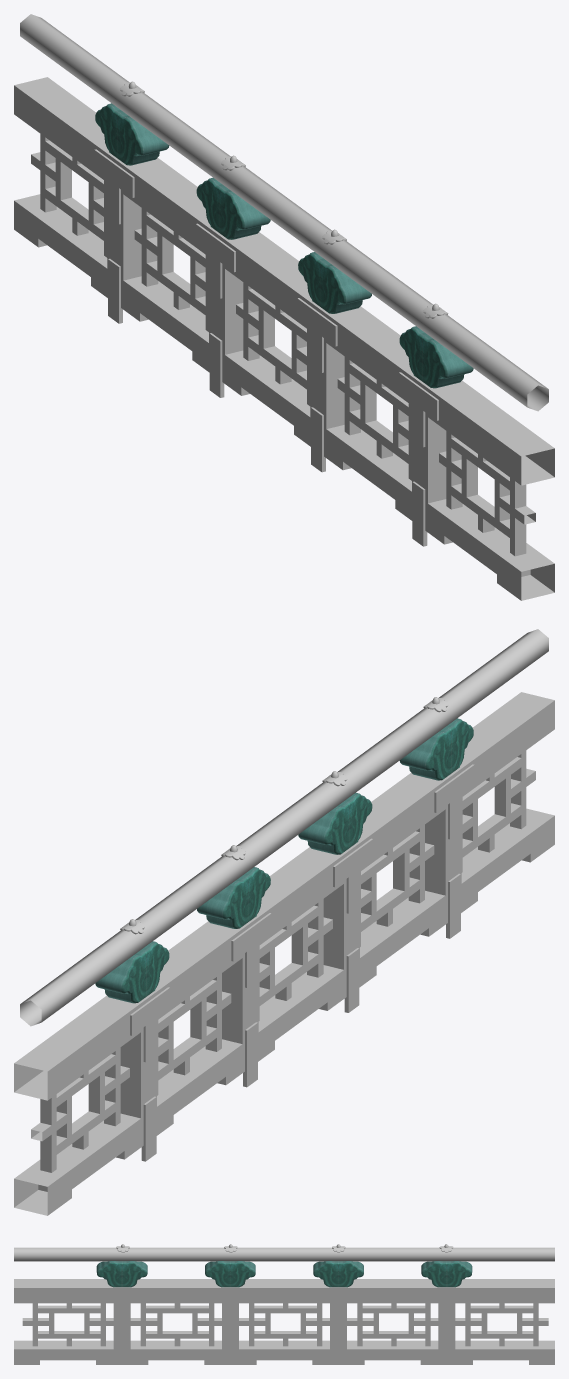
Rendered from SM_Handrail01D.fbx.
3 renders of one model, top to bottom at view 1: azimuth 30°, elevation 25°; view 2: azimuth 150°, elevation 25°; view 3: azimuth 270°, elevation 25°, orthographic. The views are drawn at different scales.
Visible parts, largest first — view 1: SM_Handrail01D; view 2: SM_Handrail01D; view 3: SM_Handrail01D.
Part boxes in pixels (x1=…): SM_Handrail01D: x1=14, y1=14, x2=554, y2=600; SM_Handrail01D: x1=14, y1=629, x2=554, y2=1215; SM_Handrail01D: x1=14, y1=1244, x2=554, y2=1364.
Bounding box in the file's own units: 6.64 × 164 × 41.6.
